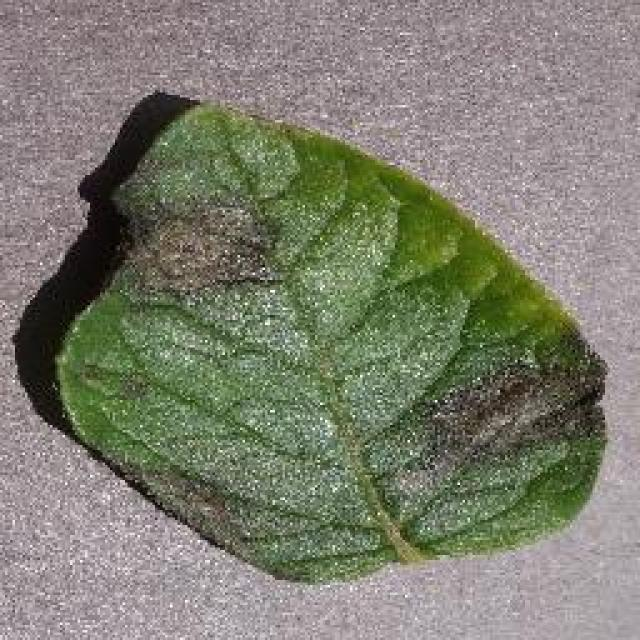late_blight: (42, 87, 612, 585)
